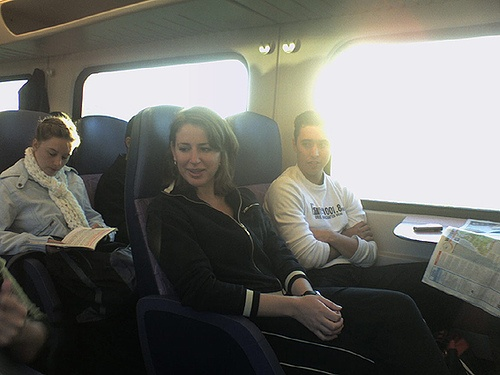head: (168, 107, 221, 187), (33, 113, 76, 181), (294, 114, 329, 182)
person: (148, 106, 453, 375), (265, 111, 439, 299), (4, 101, 131, 348)
